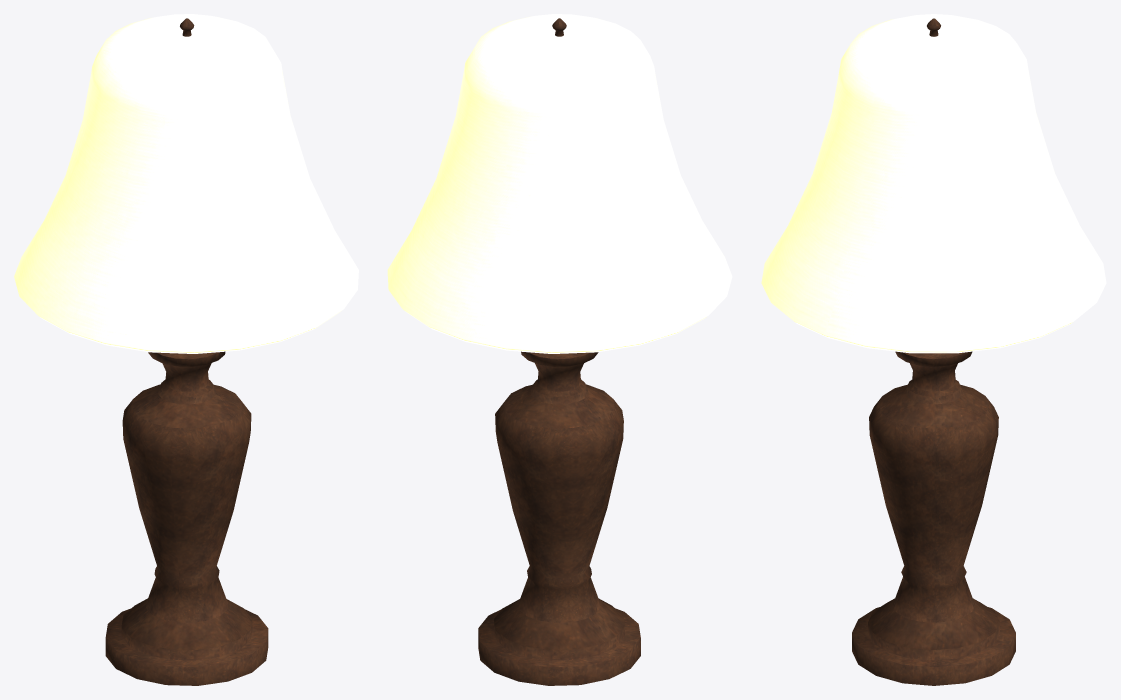
The model's file is Bedside_lamp.glb.
The picture shows the model from 3 angles, left to right: view 1: azimuth 30°, elevation 25°; view 2: azimuth 150°, elevation 25°; view 3: azimuth 270°, elevation 25°; orthographic projection.
Visible parts, largest first — view 1: Object_20; view 2: Object_20; view 3: Object_20.
Boxes of the visible parts, x1,y1,x2,y2 form: Object_20: [14, 14, 358, 685]; Object_20: [387, 14, 732, 685]; Object_20: [761, 14, 1106, 685].
Bounding box in the file's own units: 0.351 × 0.7111 × 0.3519.
Materials: 1 (1 with a texture image).
